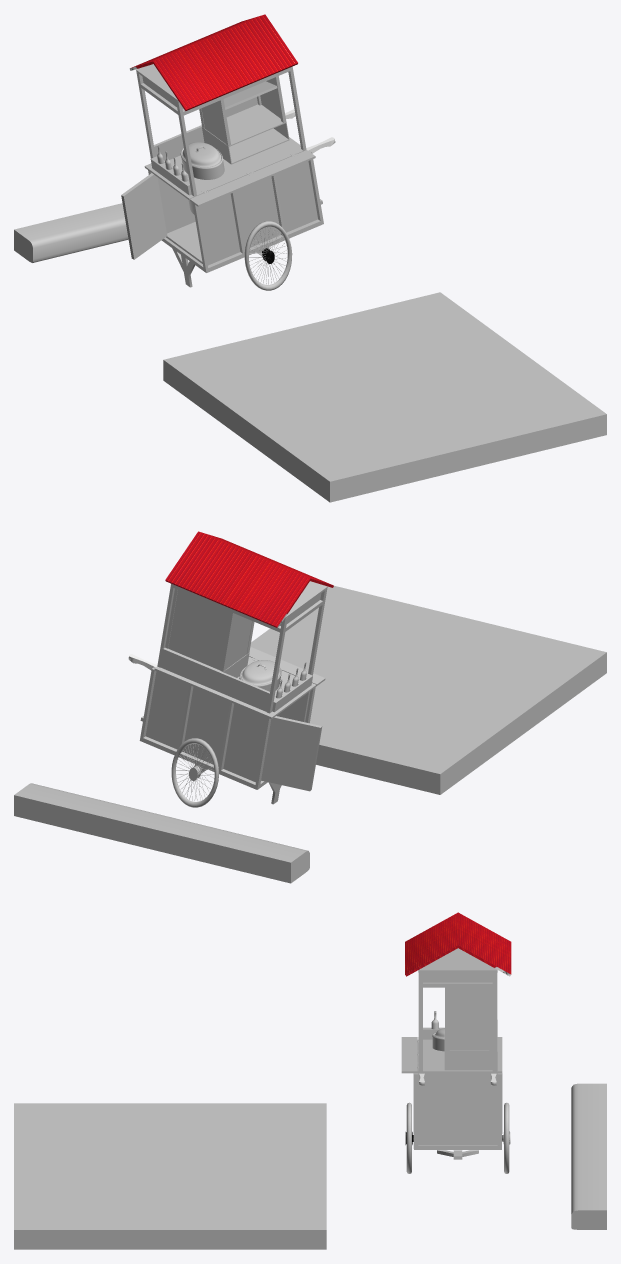
The model's file is ft_tres.obj.
3 views of the same model, one above another, from view 1: azimuth 30°, elevation 25°; view 2: azimuth 150°, elevation 25°; view 3: azimuth 270°, elevation 25° (orthographic). The views are drawn at different scales.
Visible parts, largest first — view 1: road_2, main_body, roof, side_road, foodbox, stove_door, holder_pillar_1, bodybase, wood_frame, flipable_plank, Torus, edge_plank (+1 smaller); view 2: road_2, side_road, roof, main_body, stove_door, glass_wide, edge_plank, holder_pillar_1, wood_frame, bodybase, wheel_and_rim, glass_2 (+7 smaller); view 3: road_2, main_body, side_road, roof, glass_1, holder_pillar_1, wood_frame, top_plank, bodybase, foodbox, flipable_plank, foodstock_stand.
Part boxes in pixels (box(x1,y1,x2,y2)): road_2: box(163, 292, 606, 502); main_body: box(157, 161, 317, 265); roof: box(129, 14, 297, 110); side_road: box(14, 203, 128, 262); foodbox: box(202, 104, 289, 164); stove_door: box(121, 173, 167, 259); holder_pillar_1: box(136, 66, 306, 196); bodybase: box(144, 137, 306, 200); wood_frame: box(148, 150, 323, 272); flipable_plank: box(190, 150, 315, 206); Torus: box(244, 221, 292, 290); edge_plank: box(154, 125, 204, 160); road_2: box(250, 585, 606, 794); side_road: box(14, 783, 309, 883); roof: box(165, 531, 333, 628); main_body: box(145, 671, 310, 782); stove_door: box(261, 716, 322, 791); glass_wide: box(168, 590, 229, 670); edge_plank: box(157, 648, 269, 711); holder_pillar_1: box(157, 583, 327, 713); wood_frame: box(139, 667, 315, 789); bodybase: box(154, 656, 316, 719); wheel_and_rim: box(171, 738, 218, 807); glass_2: box(226, 614, 251, 669); road_2: box(14, 1103, 326, 1249); main_body: box(418, 1073, 497, 1144); side_road: box(571, 1083, 606, 1229); roof: box(405, 912, 511, 976); glass_1: box(449, 987, 489, 1050); holder_pillar_1: box(418, 972, 497, 1071); wood_frame: box(413, 1040, 501, 1149); top_plank: box(418, 948, 497, 972); bodybase: box(418, 1037, 502, 1073); foodbox: box(444, 1034, 492, 1070); flipable_plank: box(401, 1037, 417, 1073); foodstock_stand: box(445, 987, 492, 1050).
Bounding box in the file's own units: 17.89 × 16.85 × 35.36.
